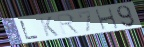7: (77, 10, 93, 33)
9: (116, 5, 136, 28)
H: (94, 6, 120, 32)
K: (38, 16, 60, 37)
L: (19, 19, 41, 41)
R: (55, 13, 83, 36)
